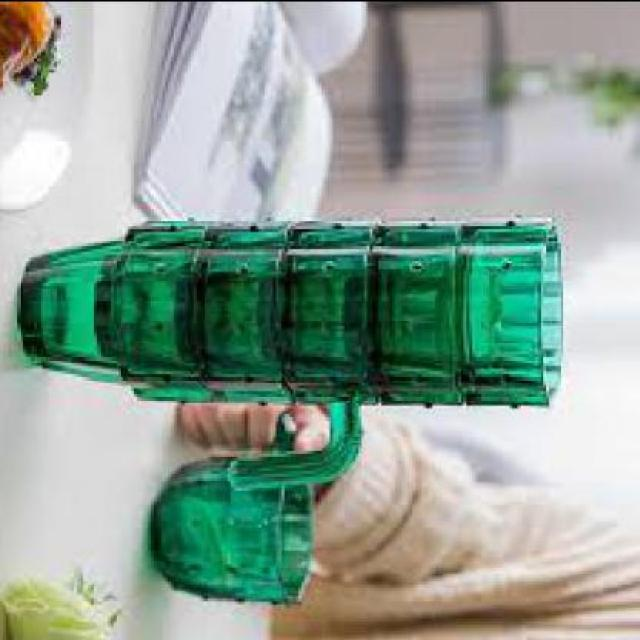GLASS: (23, 216, 566, 495), (154, 458, 318, 604)
